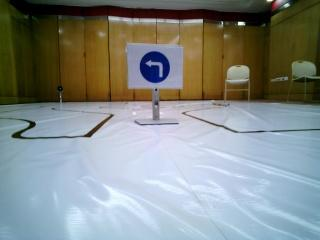left: (129, 48, 179, 85)
